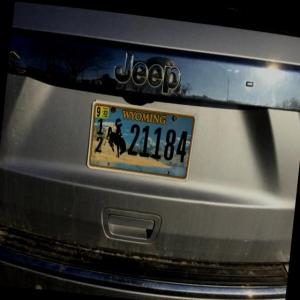Plate: (86, 100, 198, 182)
